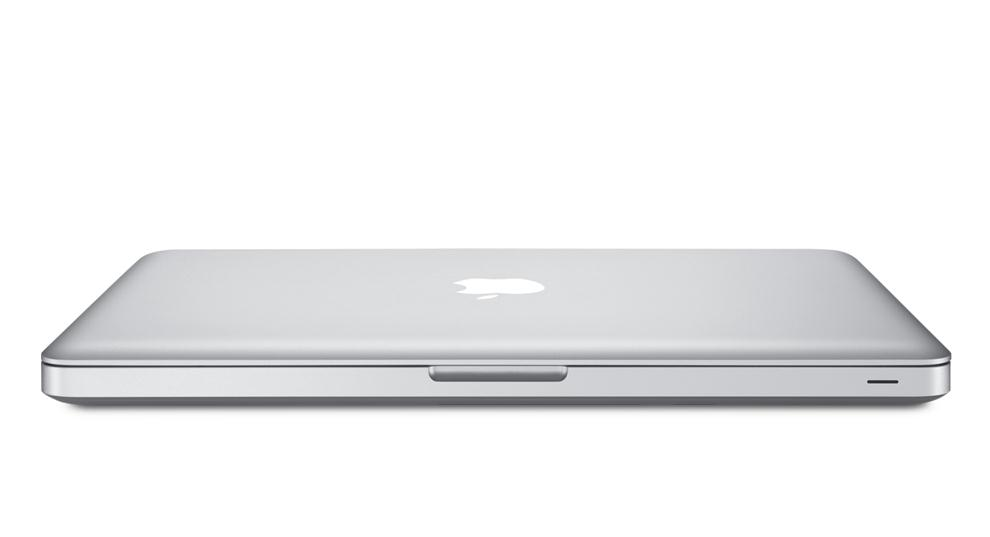Apple: (443, 262, 565, 316)
